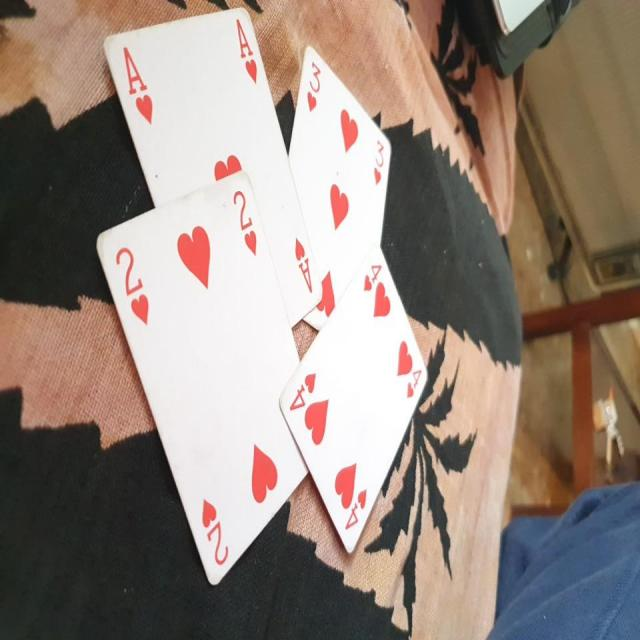2 Hearts: (96, 169, 324, 595)
3 Hearts: (271, 44, 403, 338)
4 Hearts: (285, 232, 432, 563)
A Hearts: (98, 2, 326, 333)
